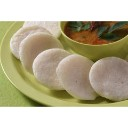idly: (57, 54, 101, 100), (20, 33, 63, 74), (90, 56, 128, 101), (35, 48, 69, 88)
